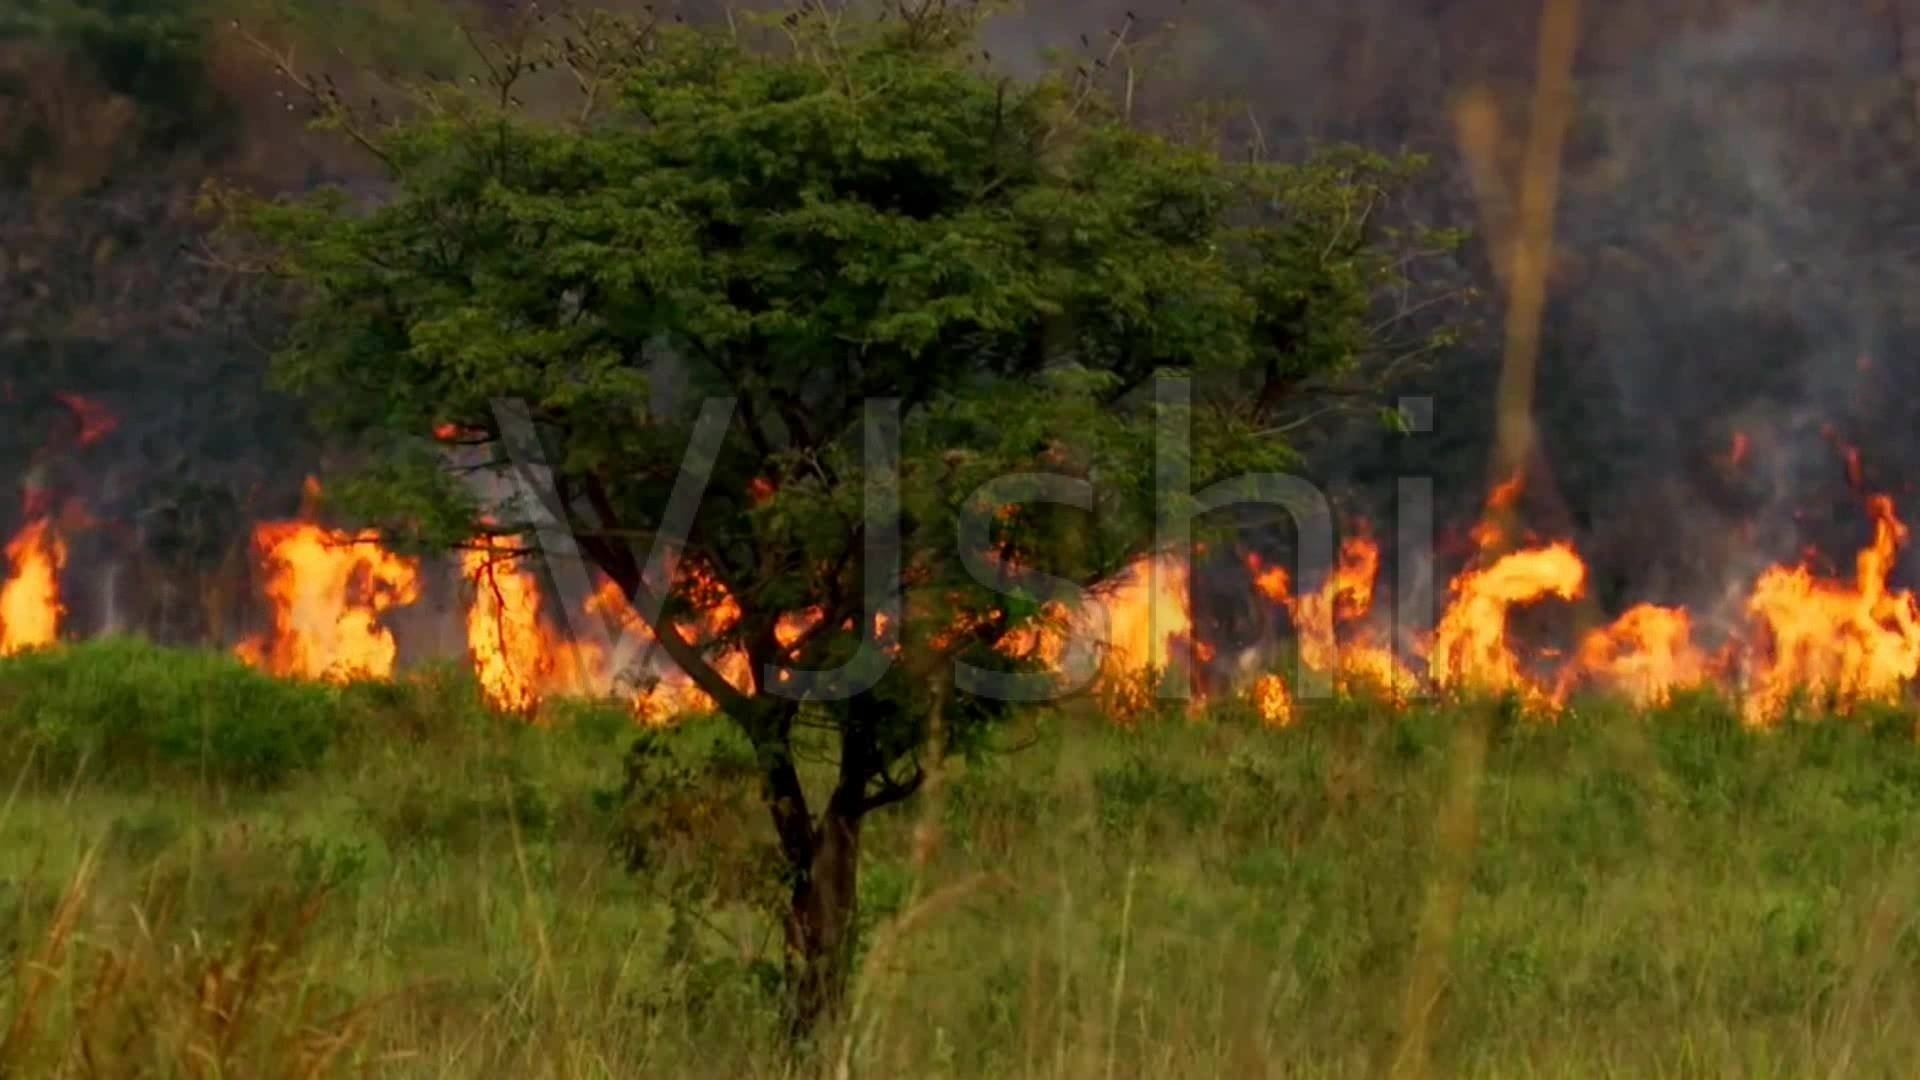fire: (934, 489, 1891, 725), (460, 538, 855, 725), (239, 509, 419, 684), (0, 509, 70, 658)
